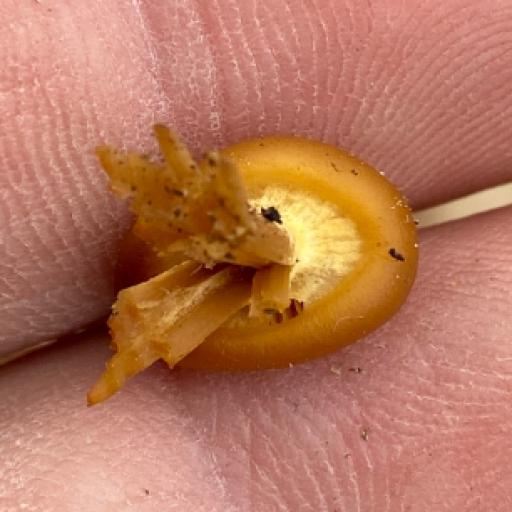mushroom: (83, 116, 428, 407)
